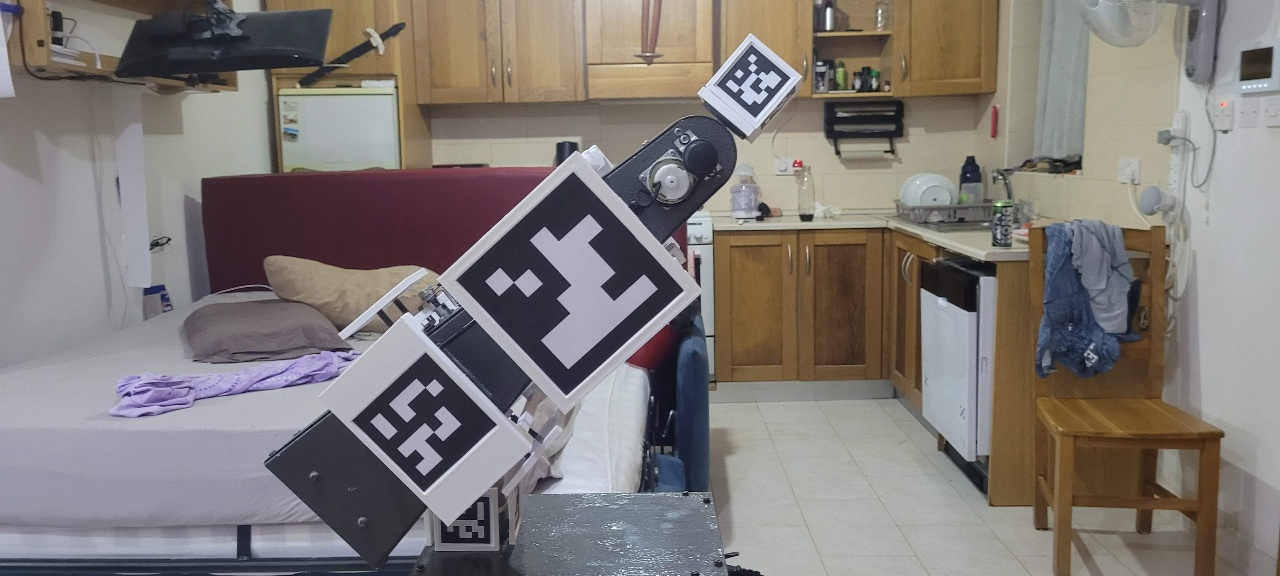Robot: (263, 33, 803, 574)
